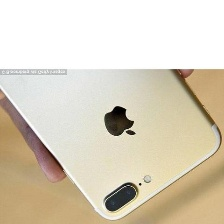phone: (0, 7, 223, 224)
